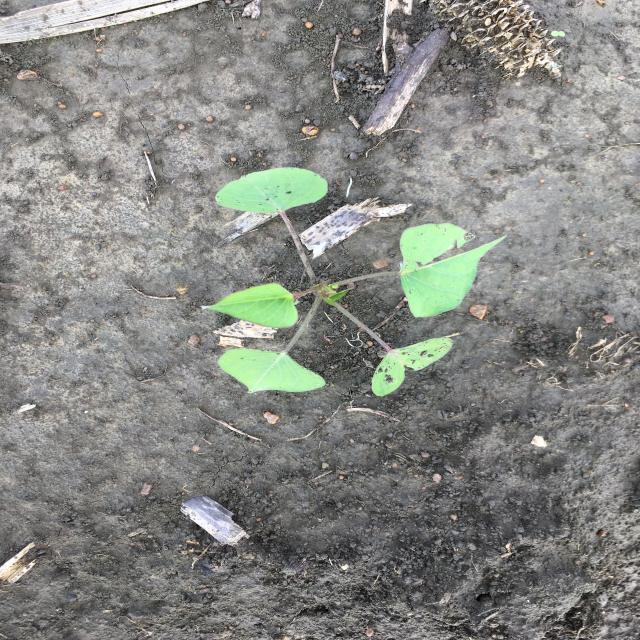MorningGlory: (200, 167, 514, 399)
